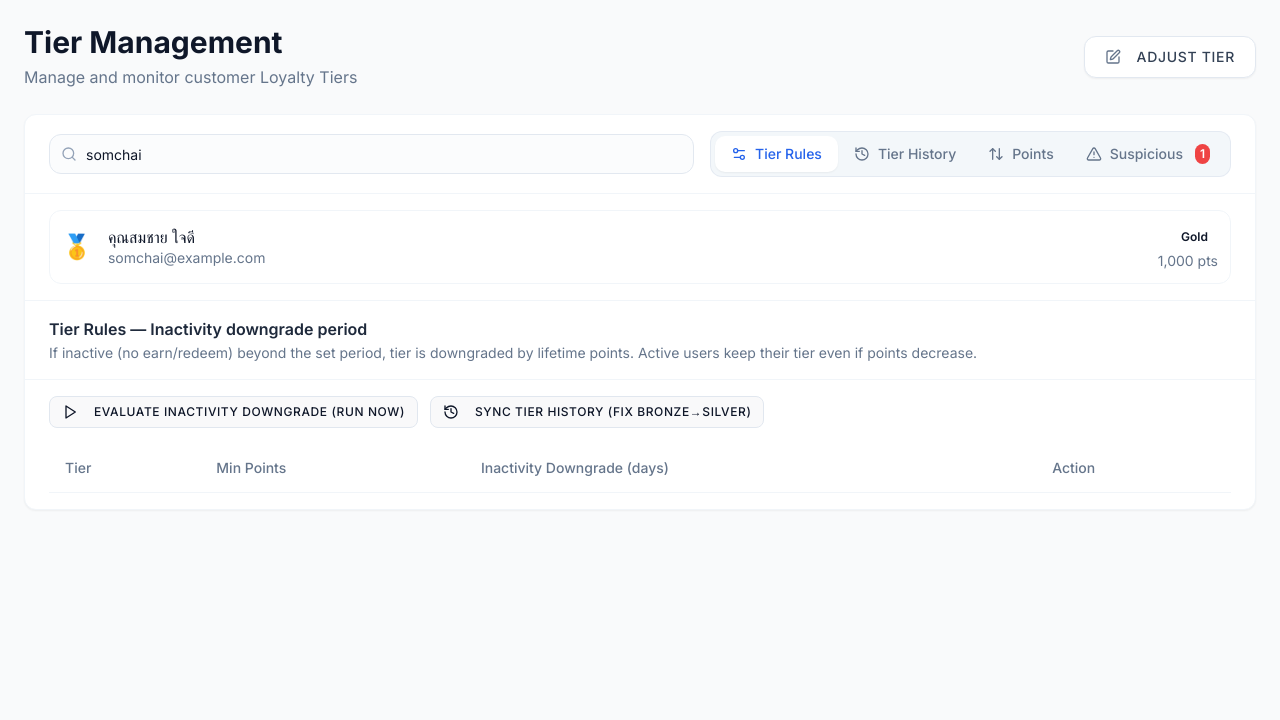
it: TierManagement › switches tabs correctly
The width and height of the screenshot is (1280, 720).
Expected: the heading "Tier Rules — Inactivity downgrade period" is shown, [49,319,367,339]
Switch to History
Click the tab "Tier History" at [905, 154], box [838,136,972,172]
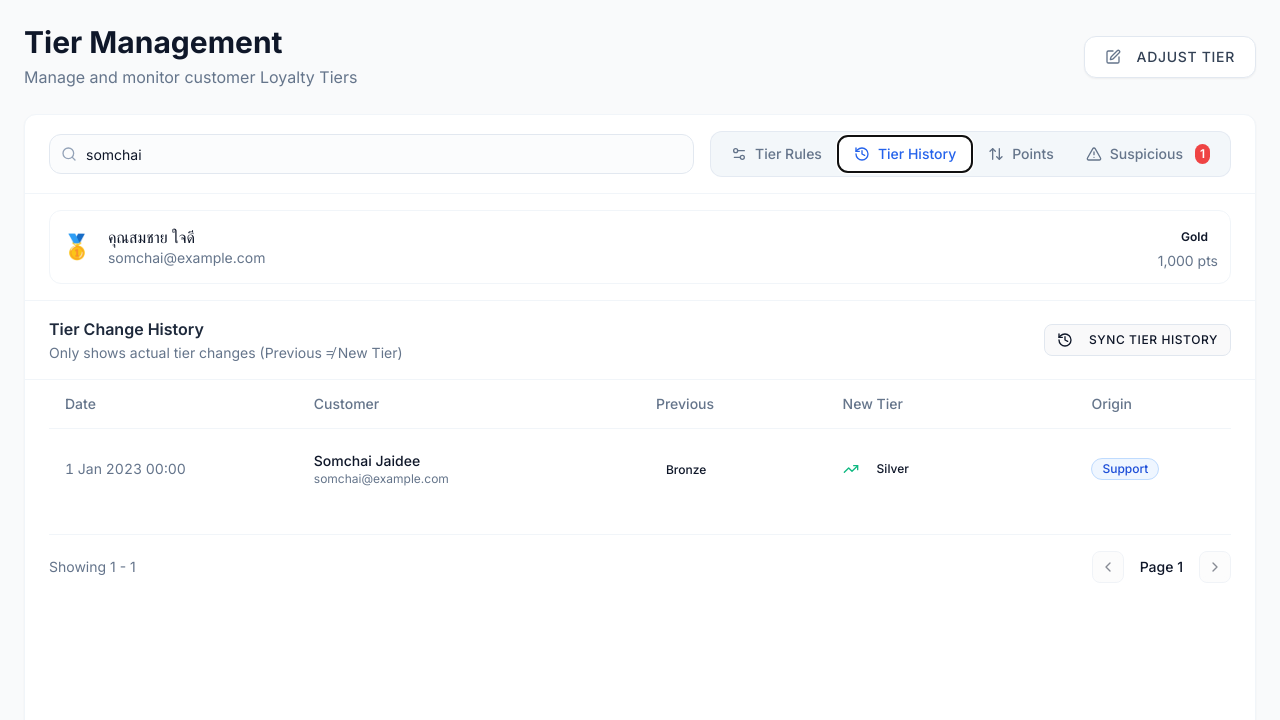
Expected: the heading "Tier Change History" is shown, [49,319,204,339]
Switch to Suspicious
Click the tab "Suspicious 1" at [1148, 154], box [1070,136,1226,172]
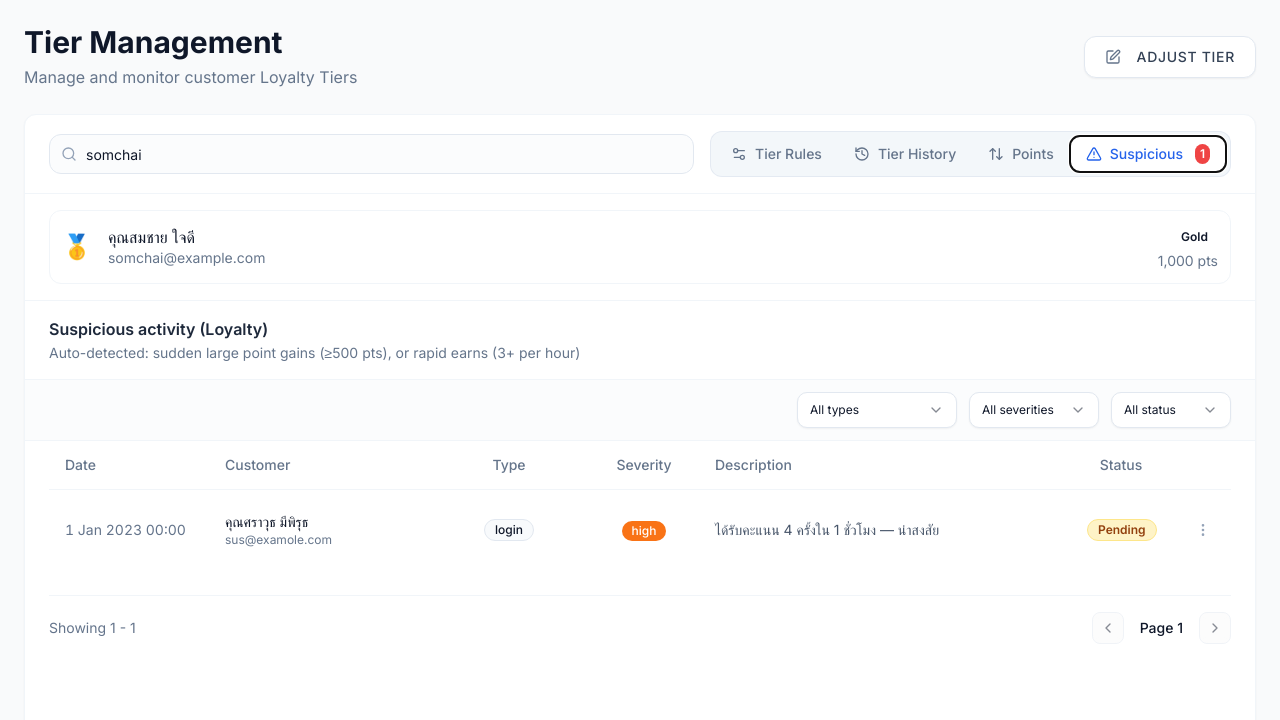
Expected: the heading "Suspicious activity (Loyalty)" is shown, [49,319,268,339]
Expected: the text "คุณศราวุธ มีพิรุธ" is shown, [225,513,308,530]
Expected: the text "sus@examole.com" is shown, [225,532,332,547]
